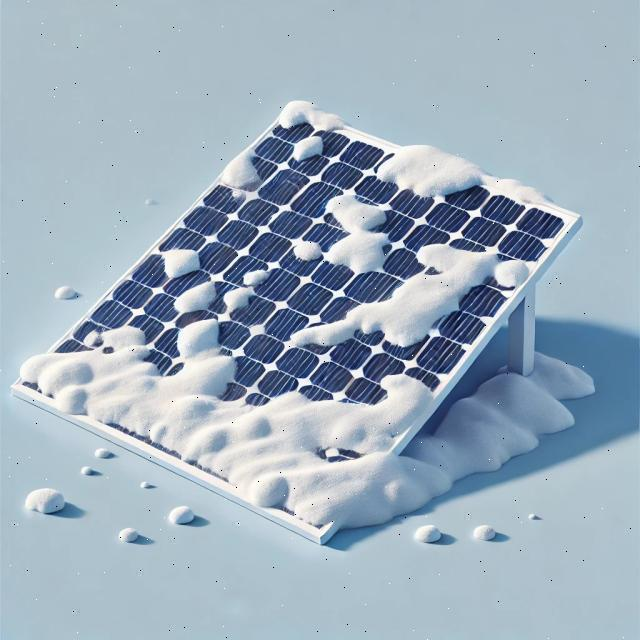Anomaly Solar Panel: (14, 5, 578, 592)
Snow: (5, 248, 436, 544), (279, 197, 547, 400), (367, 141, 489, 203), (322, 187, 391, 274), (216, 261, 271, 315), (166, 274, 223, 317), (275, 101, 346, 134), (216, 145, 259, 196), (156, 240, 202, 281), (287, 129, 329, 160), (289, 237, 323, 258)
